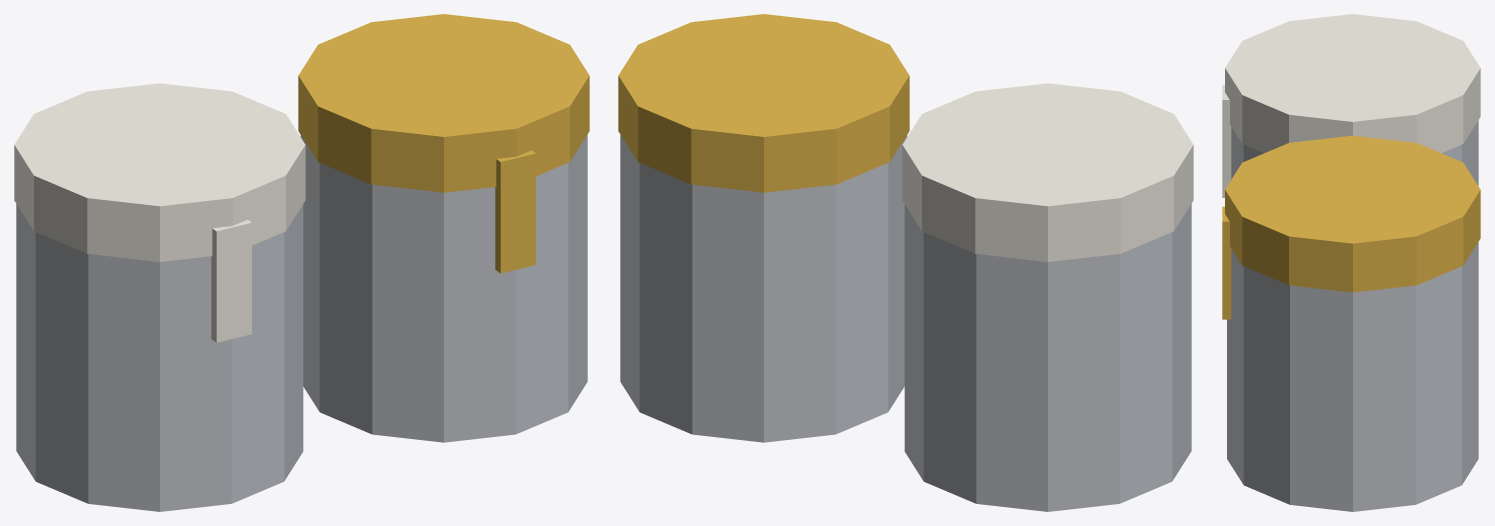
The model's file is fair_paint_cans.glb.
The picture shows the model from 3 angles, left to right: view 1: azimuth 30°, elevation 25°; view 2: azimuth 150°, elevation 25°; view 3: azimuth 270°, elevation 25°; orthographic projection. The views are drawn at different scales.
Parts seen in each view (by area): view 1: cans_needle_steel (×2), paint_fair_white, paint_fair_gold, drips_fair_white, drips_fair_gold; view 2: cans_needle_steel (×2), paint_fair_white, paint_fair_gold; view 3: cans_needle_steel (×2), paint_fair_gold, paint_fair_white, drips_fair_gold, drips_fair_white.
Part boxes in pixels (<box>): cans_needle_steel (×2): <box>16,134,587,511</box>; paint_fair_white: <box>14,83,305,261</box>; paint_fair_gold: <box>298,14,589,192</box>; drips_fair_white: <box>211,219,251,342</box>; drips_fair_gold: <box>495,150,535,273</box>; cans_needle_steel (×2): <box>620,134,1191,511</box>; paint_fair_white: <box>902,83,1193,261</box>; paint_fair_gold: <box>618,14,909,192</box>; cans_needle_steel (×2): <box>1227,120,1478,511</box>; paint_fair_gold: <box>1225,135,1480,292</box>; paint_fair_white: <box>1225,14,1480,153</box>; drips_fair_gold: <box>1222,206,1231,319</box>; drips_fair_white: <box>1222,85,1231,197</box>.
Size of the model in its own units: 0.302 by 0.165 by 0.1435.
